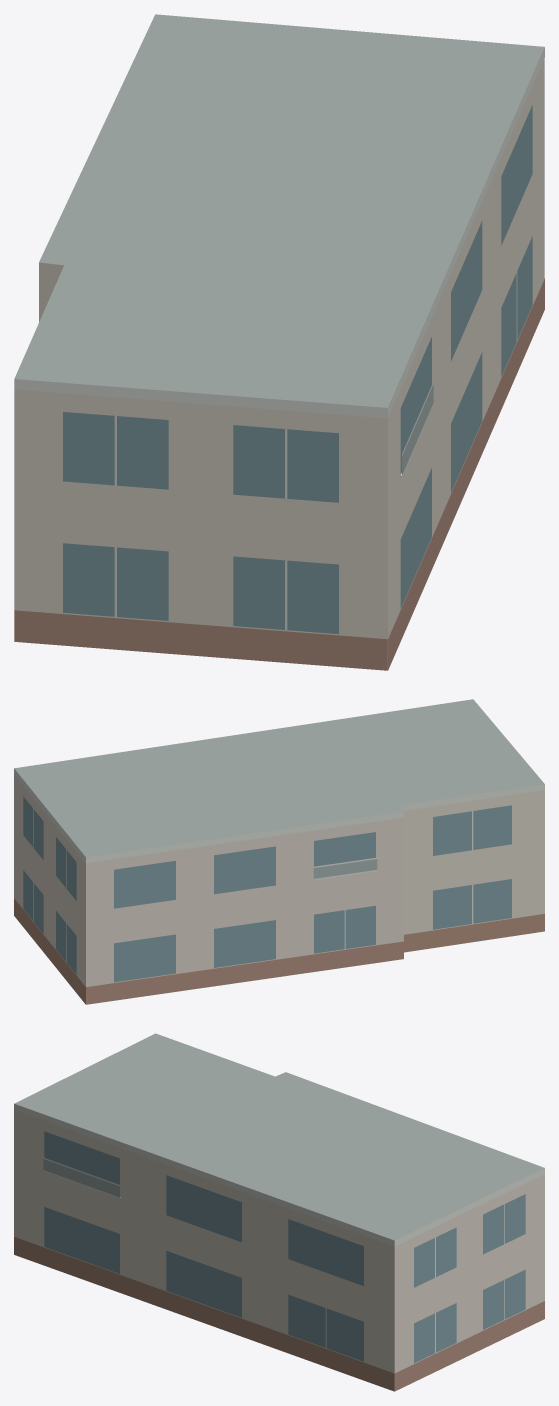
The model's file is survey-upis-32684497.glb.
3 renders of one model, top to bottom at view 1: azimuth 30°, elevation 25°; view 2: azimuth 150°, elevation 25°; view 3: azimuth 270°, elevation 25°, orthographic. The views are drawn at different scales.
Parts seen in each view (by area): view 1: survey-upis-32684497.tmp; view 2: survey-upis-32684497.tmp; view 3: survey-upis-32684497.tmp.
Part boxes in pixels (x1,y1,x2,y2): survey-upis-32684497.tmp: (14,14,544,670); survey-upis-32684497.tmp: (14,699,544,1004); survey-upis-32684497.tmp: (14,1033,544,1391).
Size of the model in its own units: 17.95 by 6.1 by 19.43.
